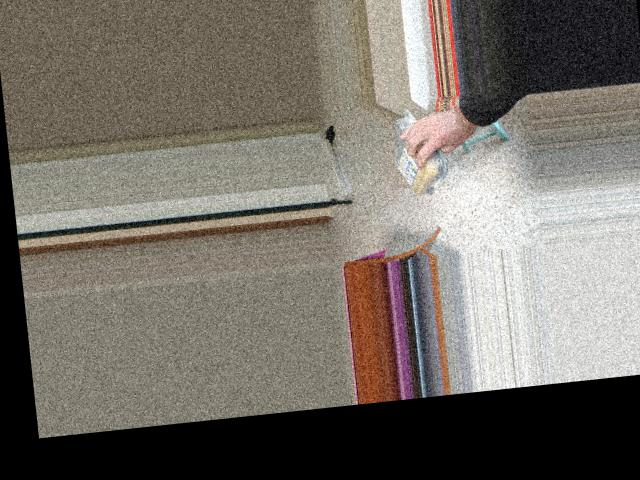cheese: (389, 107, 441, 197)
